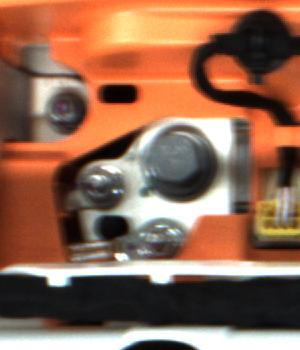nut_b: (133, 123, 227, 214)
screw_s: (74, 163, 129, 203), (135, 214, 184, 254), (45, 88, 85, 129)
